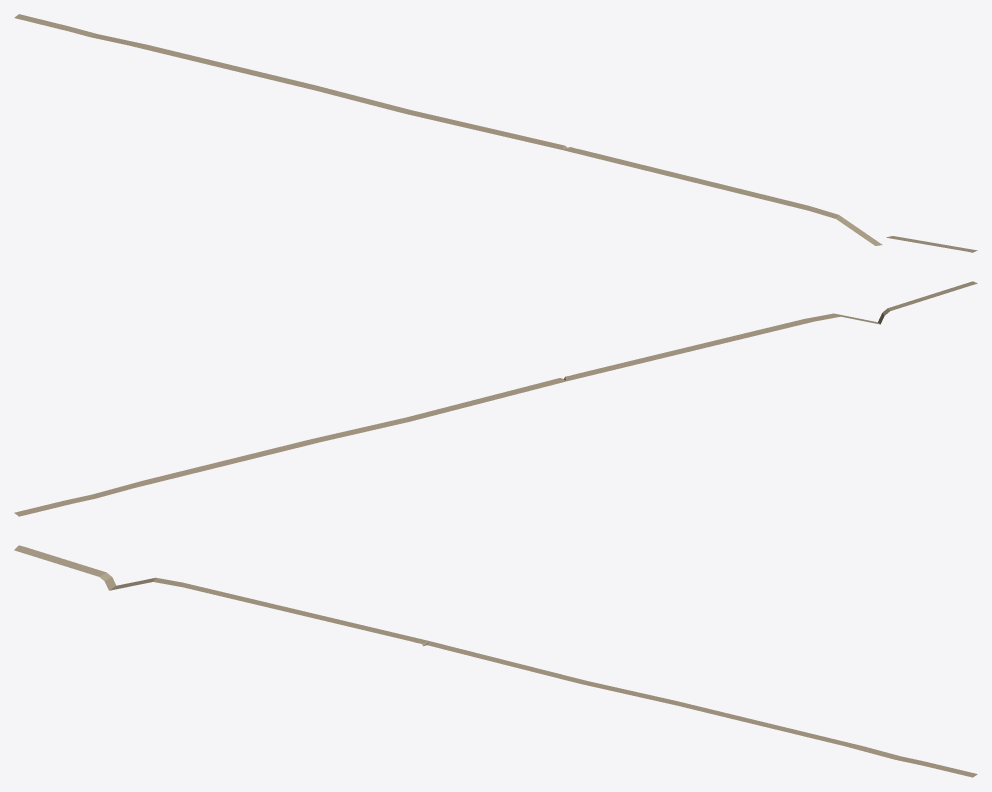
The model's file is farm_-7_-13_track.glb.
3 views of the same model, one above another, from view 1: azimuth 90°, elevation 25°; view 2: azimuth 150°, elevation 25°; view 3: azimuth 270°, elevation 25° (orthographic).
Parts seen in each view (by area): view 1: geometry_0; view 2: geometry_0; view 3: geometry_0.
Boxes of the visible parts, box(x1,y1,x2,y2) form: geometry_0: box(14, 14, 977, 252); geometry_0: box(14, 281, 977, 516); geometry_0: box(14, 545, 977, 777).
Bounding box in the file's own units: 181 × 8.07 × 312.
